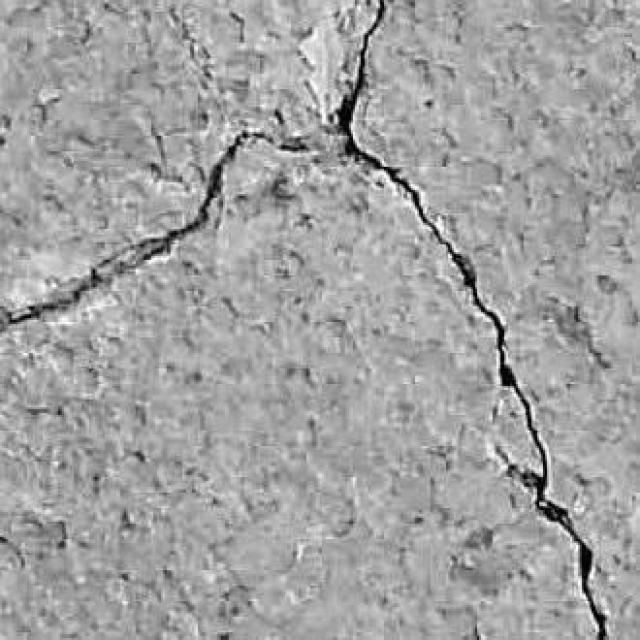crack: (334, 0, 608, 639), (0, 130, 308, 333)
